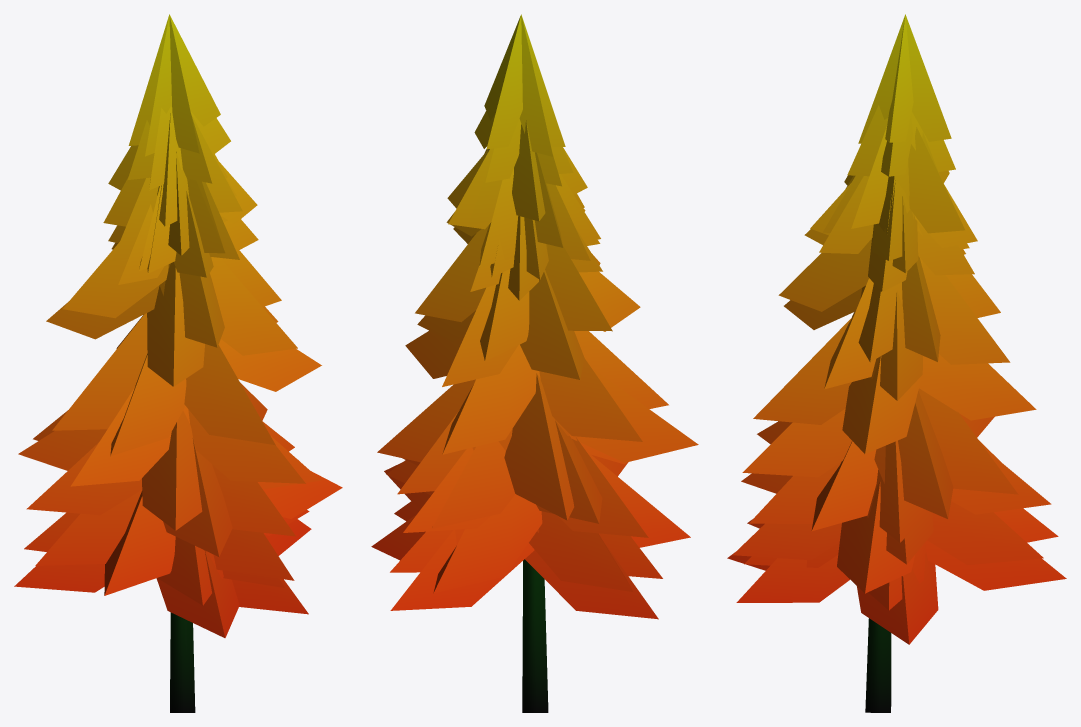
Rendered from small_pine_lod_1.obj.
The picture shows the model from 3 angles, left to right: view 1: azimuth 30°, elevation 25°; view 2: azimuth 150°, elevation 25°; view 3: azimuth 270°, elevation 25°; orthographic projection. The views are drawn at different scales.
Visible parts, largest first — view 1: SmallPineLowLoD; view 2: SmallPineLowLoD; view 3: SmallPineLowLoD.
Part boxes in pixels (<box>): SmallPineLowLoD: <box>14,14,342,712</box>; SmallPineLowLoD: <box>371,14,698,712</box>; SmallPineLowLoD: <box>727,14,1066,712</box>.
Bounding box in the file's own units: 7.97 × 17.52 × 7.76.
